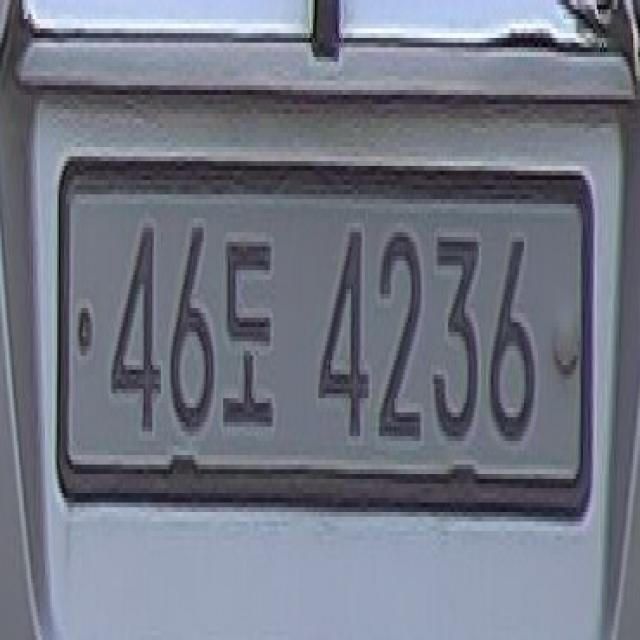2: (371, 218, 432, 466)
3: (428, 226, 486, 458)
4: (312, 213, 376, 461), (106, 209, 168, 459)
6: (484, 228, 542, 452), (170, 210, 222, 458)
do: (222, 227, 283, 452)
license_plate: (53, 135, 602, 550)
